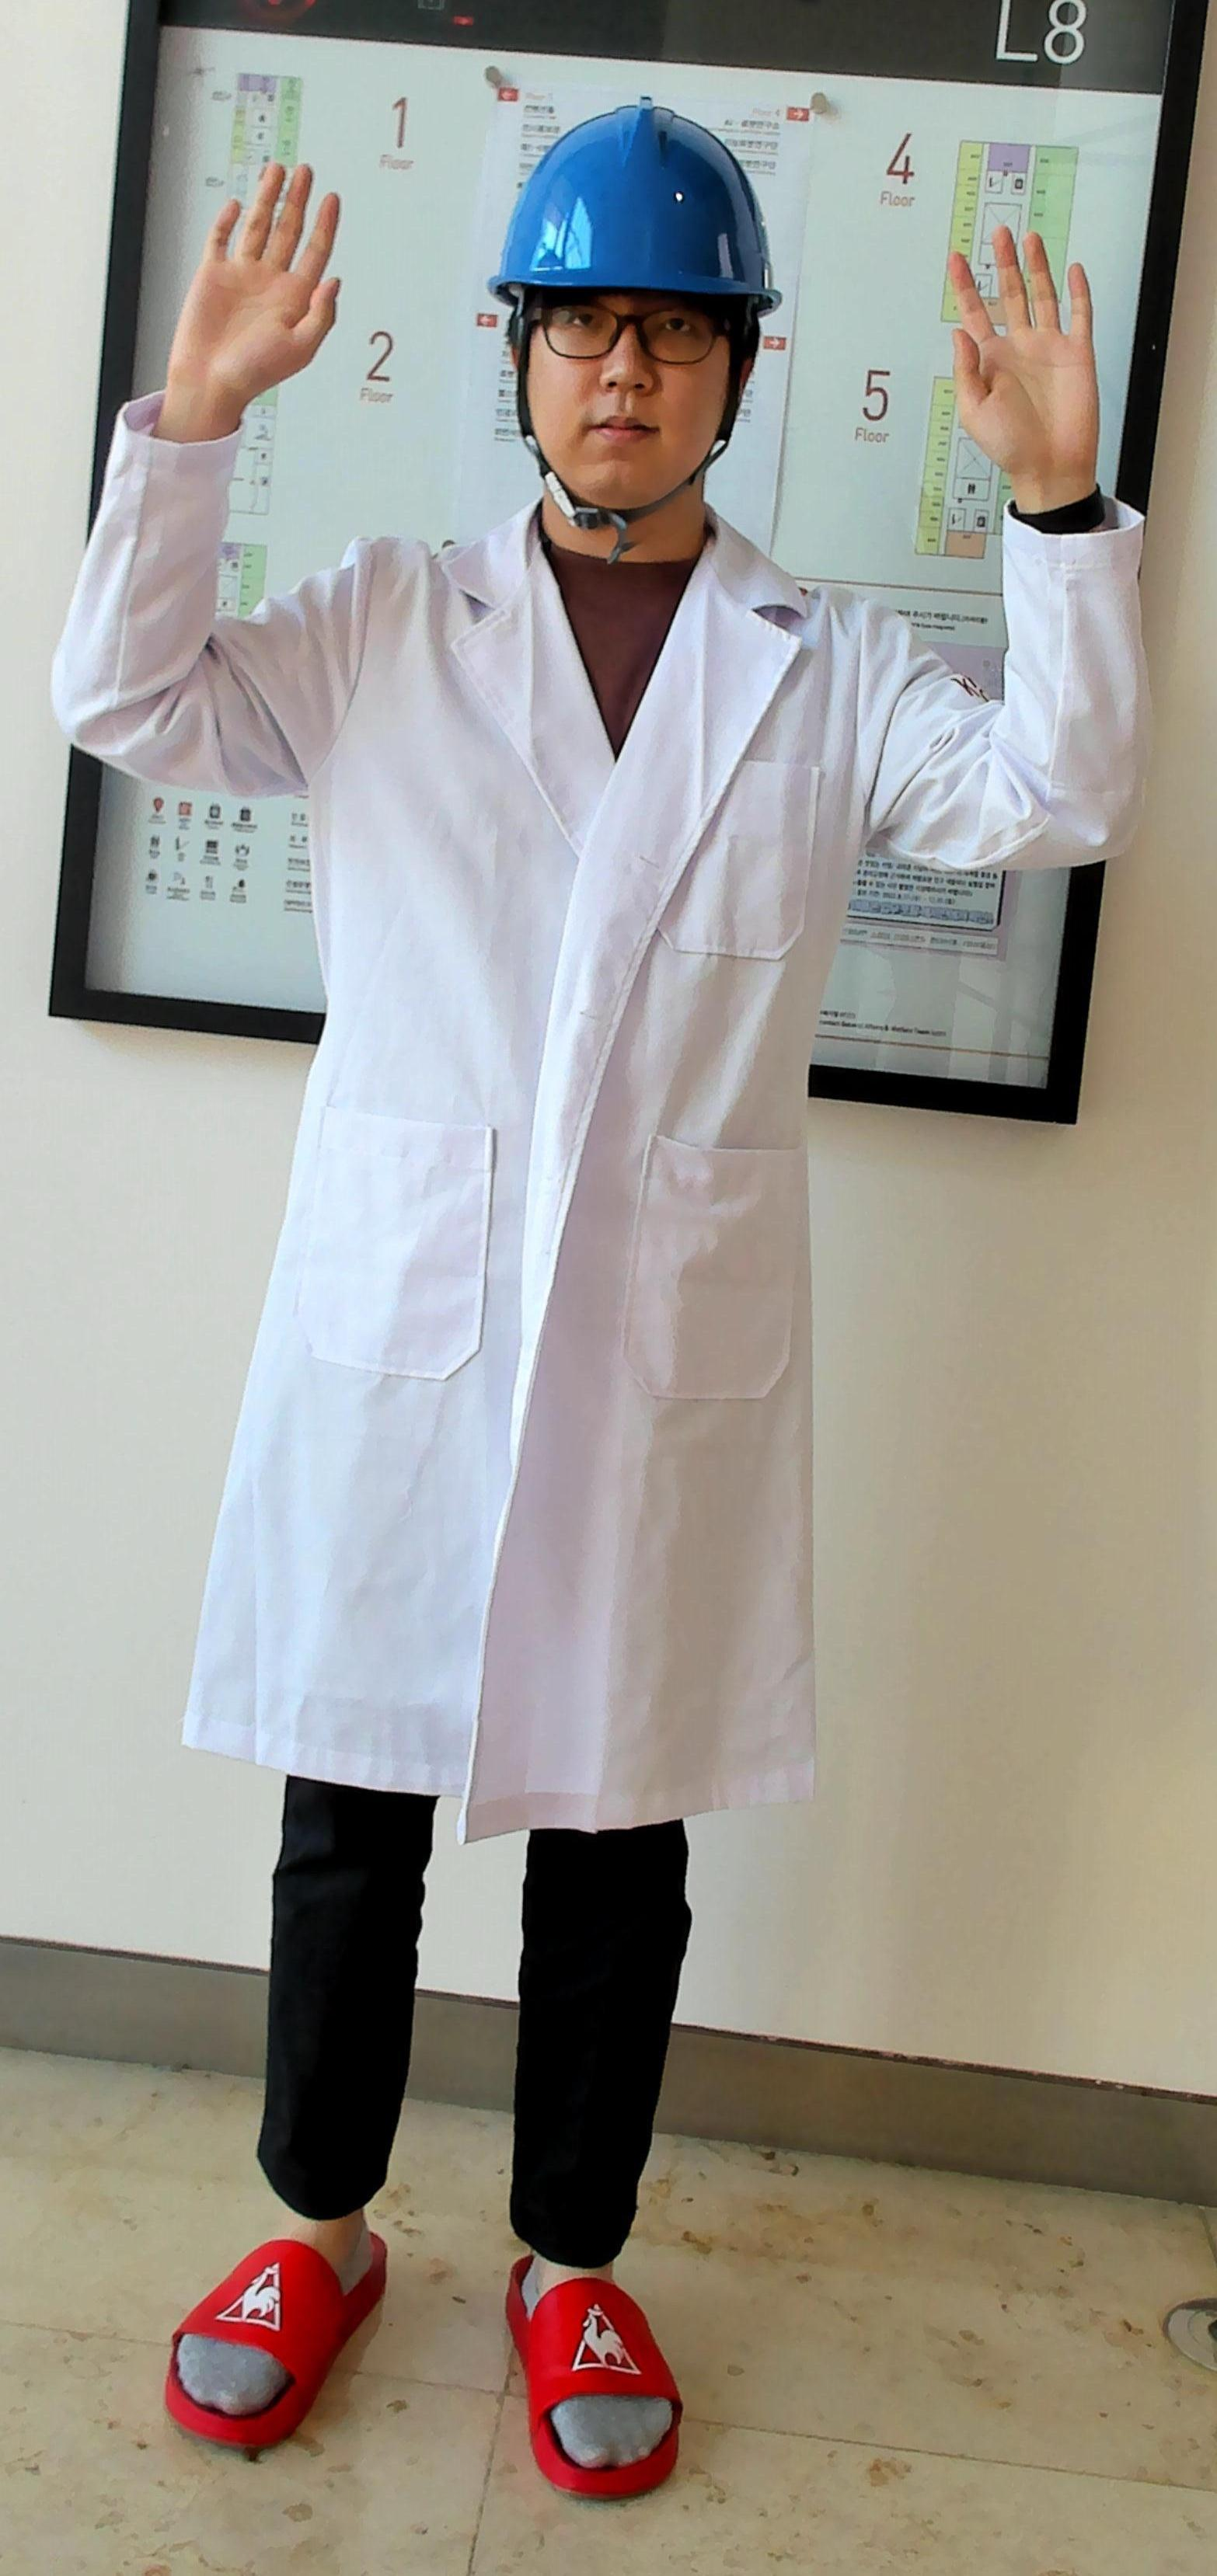lab_coat: (150, 568, 942, 1787)
